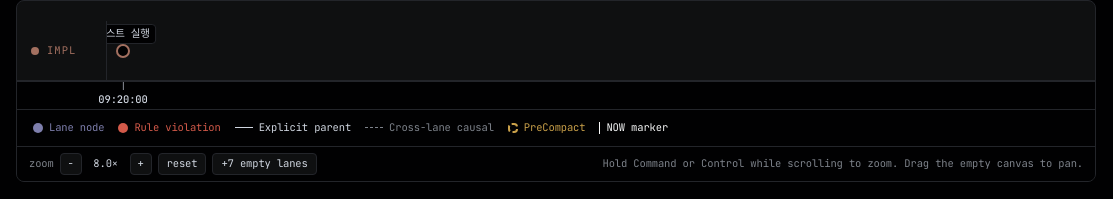
Scenario: GraphView › 확대와 초기화를 같은 그래프 viewport에 반영한다
The width and height of the screenshot is (1113, 199).
Expected: the text "8.0×" is shown, [93,156,118,170]
Click the button named "Zoom in".
click(141, 164)  # box [130,153,152,175]
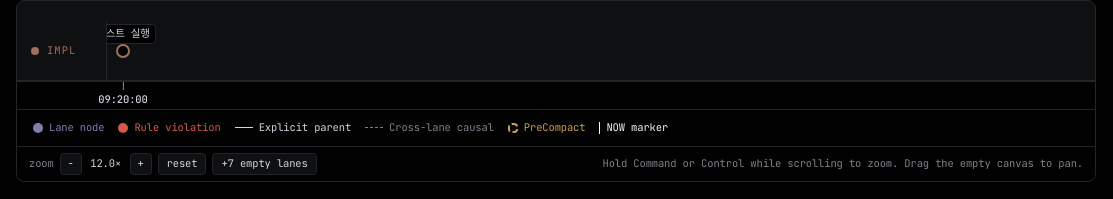
Result: the text "12.0×" is shown at [88,156,124,172]
Click the button "reset".
click(182, 164)  # box [158,153,206,175]
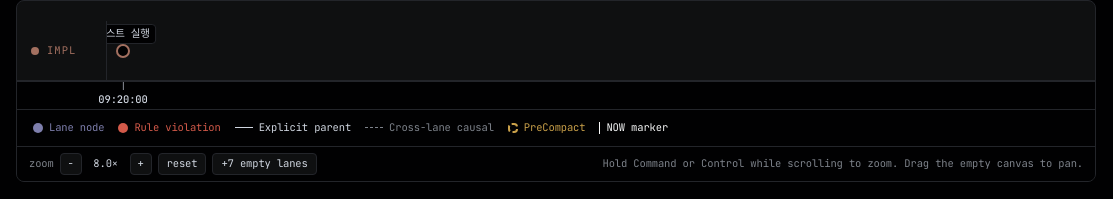
Result: the text "8.0×" is shown at [93,156,118,170]
